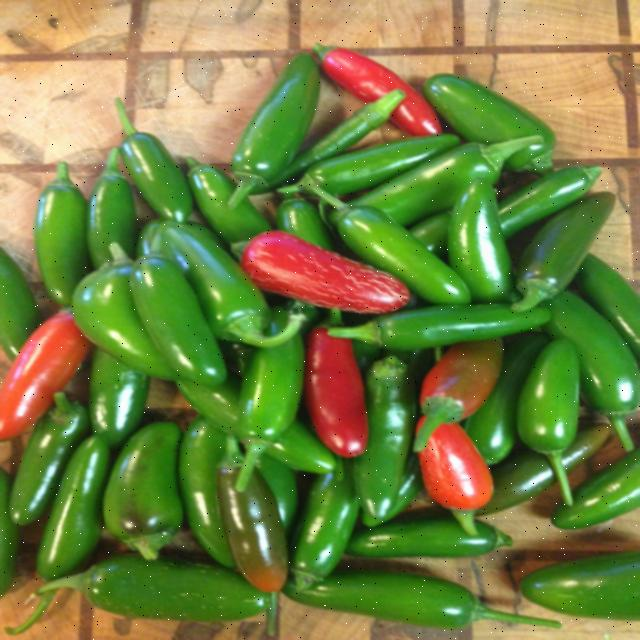Chili Pepper: (35, 95, 604, 516)
